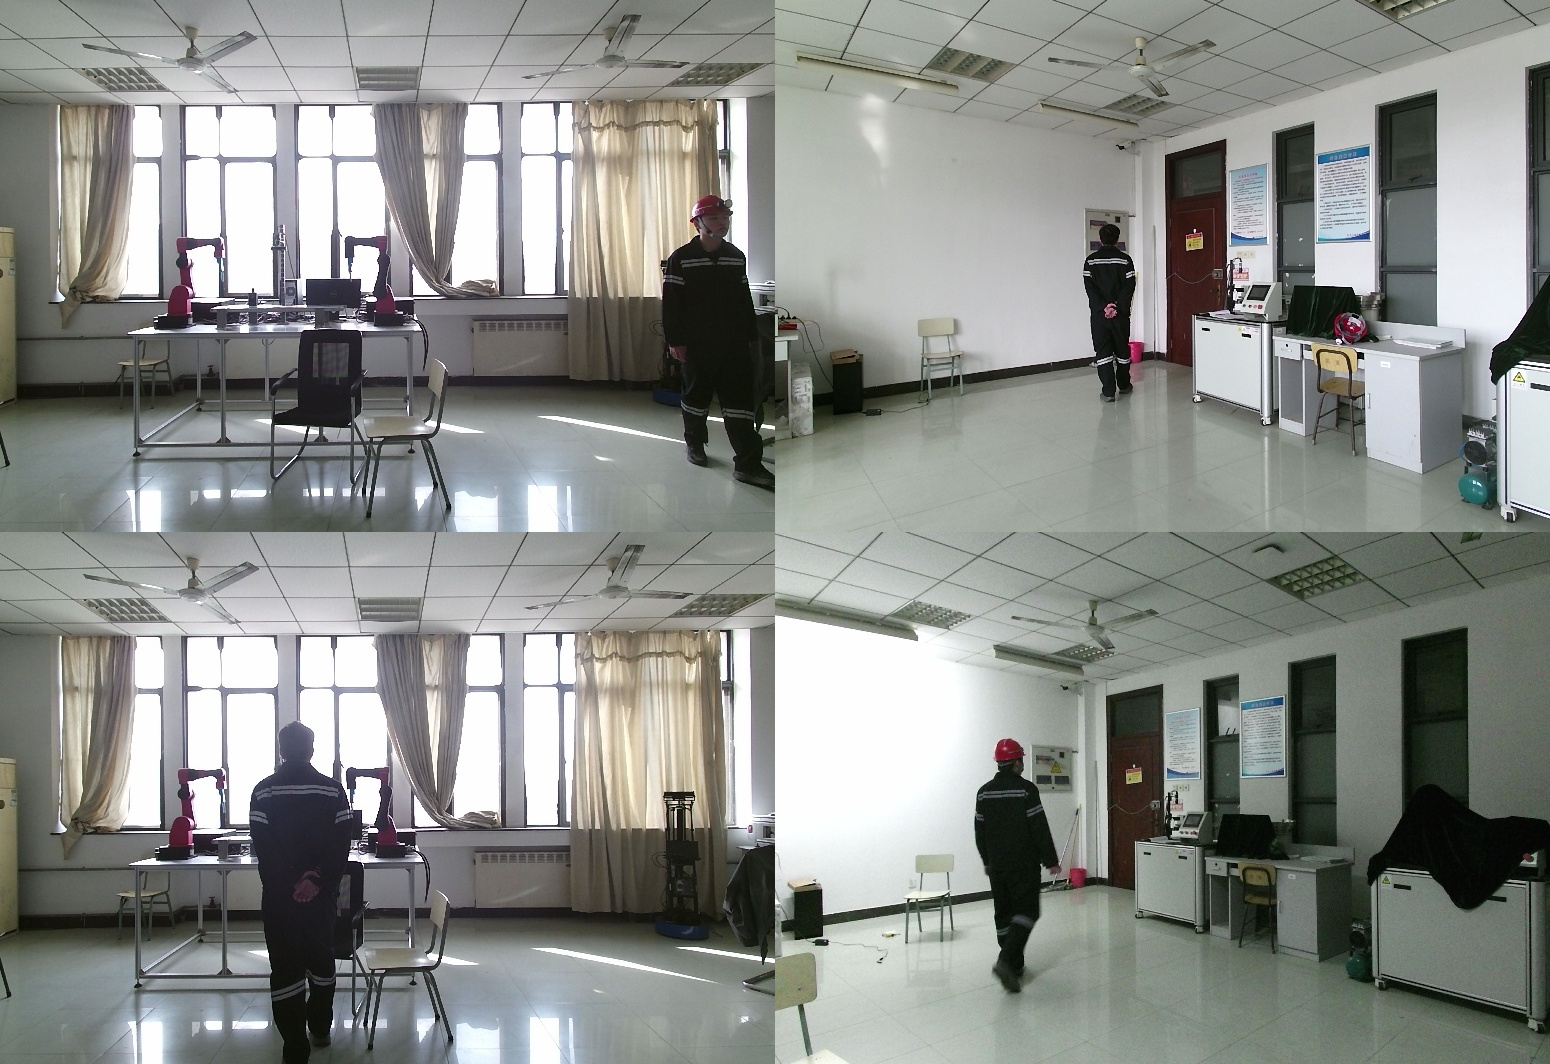person: (246, 724, 355, 1064), (662, 196, 775, 489), (967, 740, 1063, 1002), (1077, 224, 1140, 407)
